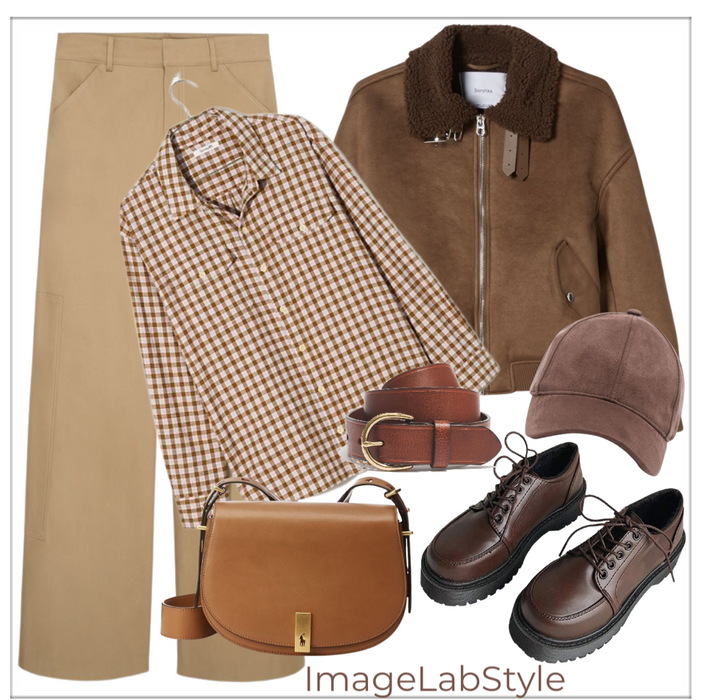ботинки: (417, 447, 686, 663)
верхняя одежда: (341, 30, 684, 397)
рубашка: (121, 111, 452, 516)
сумка: (203, 475, 410, 657)
шляпа: (529, 313, 682, 466)
штаны: (9, 28, 185, 700)
